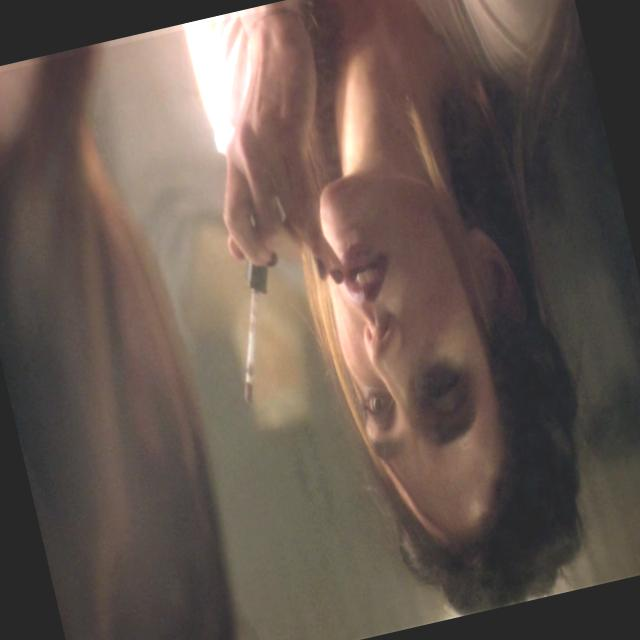smoke: (218, 290, 282, 408)
